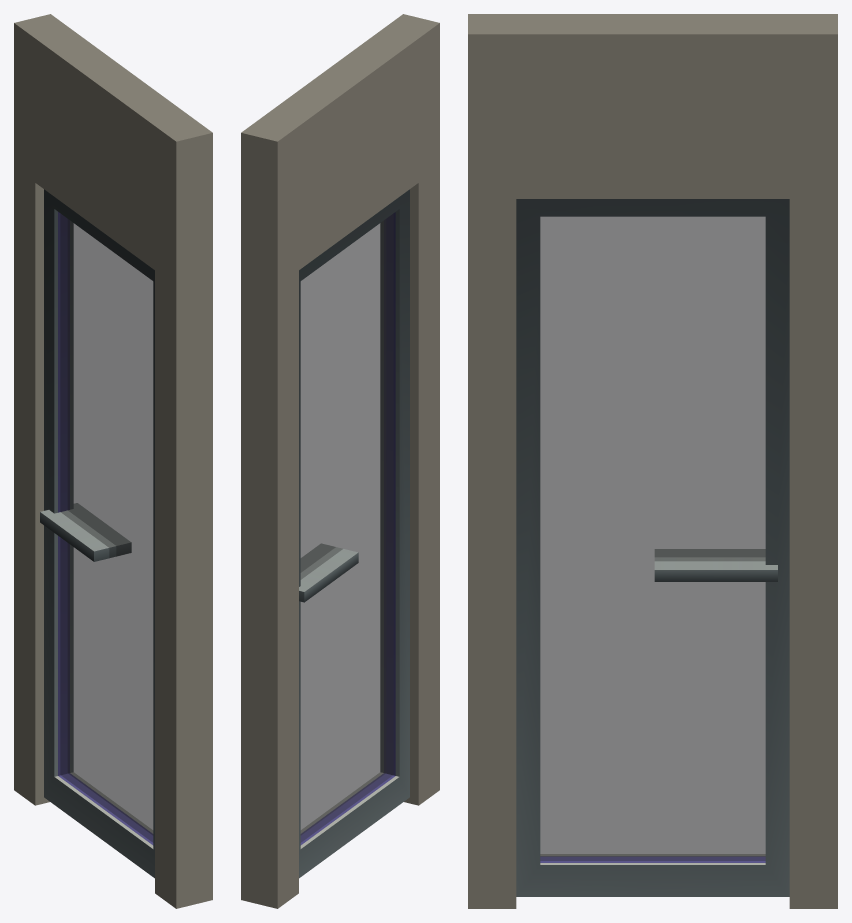
Rendered from TSP_Interior_Wall_Short_04A.fbx.
3 views of the same model, side by side, from view 1: azimuth 30°, elevation 25°; view 2: azimuth 150°, elevation 25°; view 3: azimuth 270°, elevation 25° (orthographic). The views are drawn at different scales.
Parts seen in each view (by area): view 1: TSP_Interior_Wall_Short_04A, TSP_Interior_Wall_Short_04A_Door; view 2: TSP_Interior_Wall_Short_04A, TSP_Interior_Wall_Short_04A_Door; view 3: TSP_Interior_Wall_Short_04A_Door, TSP_Interior_Wall_Short_04A.
Boxes of the visible parts, x1,y1,x2,y2 form: TSP_Interior_Wall_Short_04A: (14,14,212,908); TSP_Interior_Wall_Short_04A_Door: (40,189,154,878); TSP_Interior_Wall_Short_04A: (241,14,439,908); TSP_Interior_Wall_Short_04A_Door: (299,189,409,878); TSP_Interior_Wall_Short_04A_Door: (516,199,789,896); TSP_Interior_Wall_Short_04A: (468,14,837,908).
Bounding box in the file's own units: 0.153 × 3 × 1.15.
